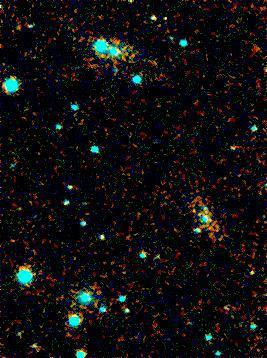star: (8, 12, 38, 42)
